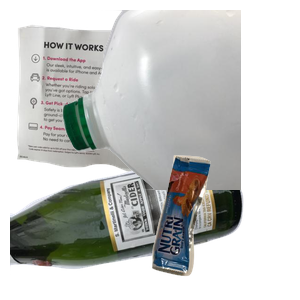glass: (10, 154, 246, 300)
paper: (14, 22, 247, 191)
plastic: (60, 10, 300, 190)
trash: (149, 152, 300, 300)
